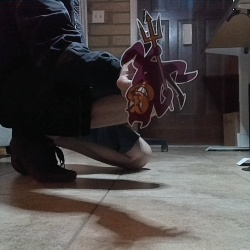sparky: (119, 9, 198, 128)
